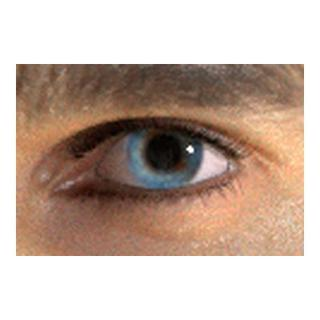pupil: (147, 135, 181, 169)
